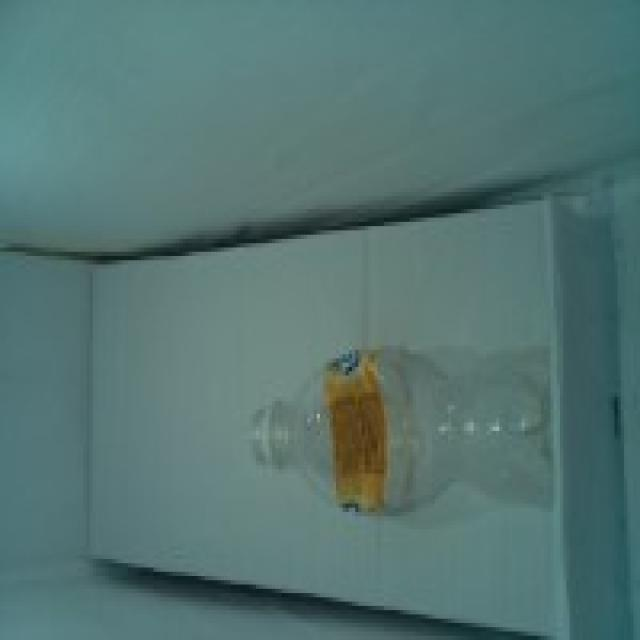Anorganik: (250, 346, 550, 529)
